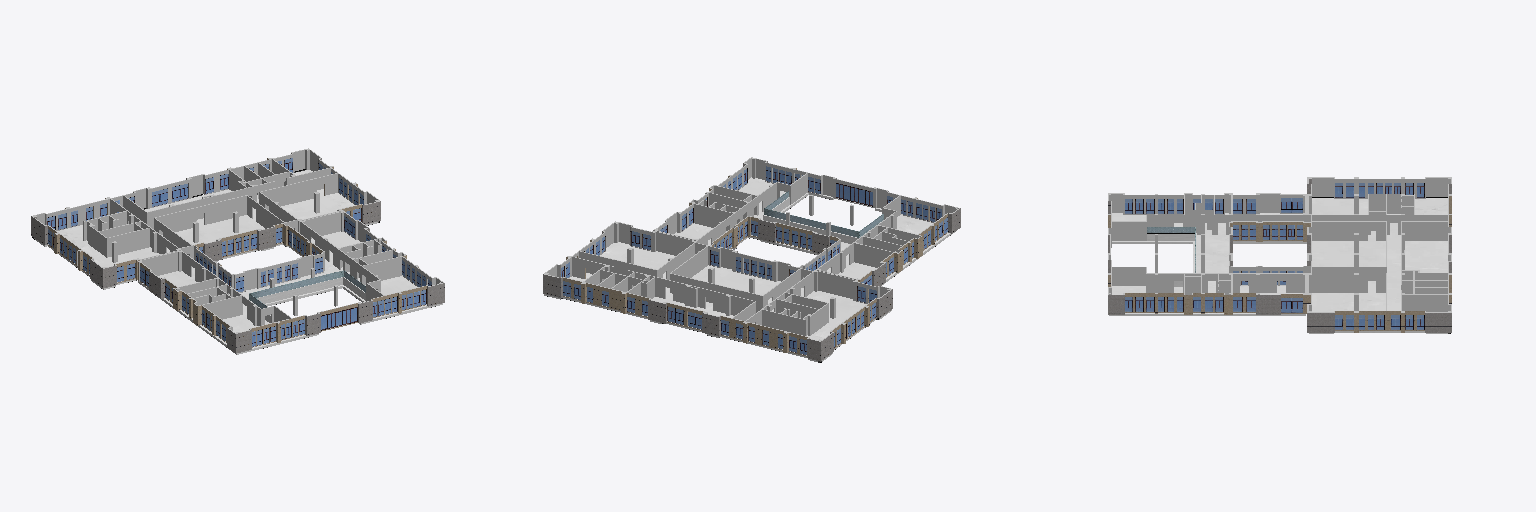
The picture shows the model from 3 angles: view 1: azimuth 30°, elevation 25°; view 2: azimuth 150°, elevation 25°; view 3: azimuth 270°, elevation 25°; orthographic projection.
Visible parts, largest first — view 1: LC_3F_qiang, LC_3F_diban, C_3F_chuang; view 2: LC_3F_qiang, LC_3F_diban, C_3F_chuang; view 3: LC_3F_qiang, LC_3F_diban, C_3F_chuang.
Boxes of the visible parts, x1=… form: LC_3F_qiang: x1=31, y1=148, x2=444, y2=353; LC_3F_diban: x1=32, y1=169, x2=442, y2=354; C_3F_chuang: x1=47, y1=158, x2=431, y2=346; LC_3F_qiang: x1=543, y1=157, x2=960, y2=361; LC_3F_diban: x1=544, y1=177, x2=954, y2=362; C_3F_chuang: x1=561, y1=166, x2=947, y2=354; LC_3F_qiang: x1=1108, y1=177, x2=1451, y2=332; LC_3F_diban: x1=1109, y1=197, x2=1450, y2=333; C_3F_chuang: x1=1125, y1=183, x2=1424, y2=329.
Bounding box in the file's own units: 57600 × 4319 × 61850.
6 materials, 5 textured.